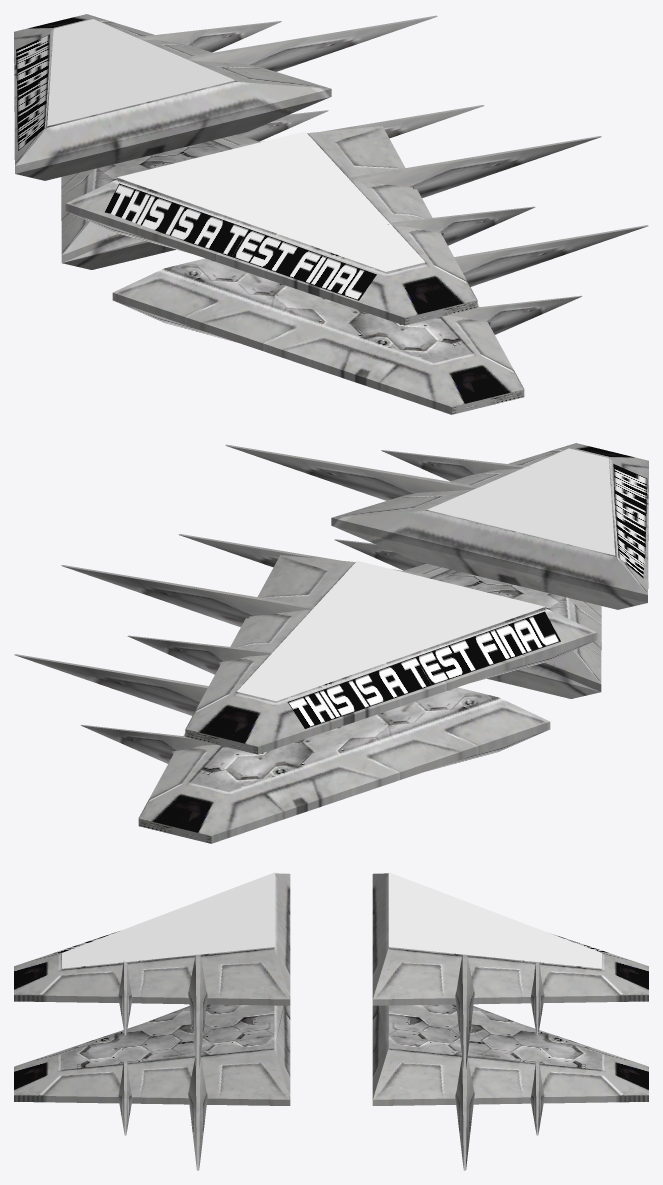
The model's file is spw13.obj.
The picture shows the model from 3 angles, top to bottom: view 1: azimuth 30°, elevation 25°; view 2: azimuth 150°, elevation 25°; view 3: azimuth 270°, elevation 25°; orthographic projection. The views are drawn at different scales.
Parts seen in each view (by area): view 1: SPW130, DECAL010.006, NAMEDECAL0.007, DECAL020.003; view 2: SPW130, DECAL020.003, NAMEDECAL0.007, DECAL010.006; view 3: SPW130, DECAL010.006, DECAL020.003.
Boxes of the visible parts, x1=… form: SPW130: x1=14, y1=14, x2=648, y2=414; DECAL010.006: x1=117, y1=131, x2=425, y2=271; NAMEDECAL0.007: x1=16, y1=34, x2=376, y2=300; DECAL020.003: x1=47, y1=19, x2=234, y2=126; SPW130: x1=14, y1=443, x2=648, y2=843; DECAL020.003: x1=237, y1=561, x2=545, y2=701; NAMEDECAL0.007: x1=287, y1=464, x2=647, y2=728; DECAL010.006: x1=427, y1=448, x2=615, y2=555; SPW130: x1=14, y1=873, x2=648, y2=1170; DECAL010.006: x1=62, y1=872, x2=275, y2=968; DECAL020.003: x1=388, y1=872, x2=601, y2=968.
Size of the model in its own units: 59.7 by 18.13 by 76.85.
4 materials, 4 textured.
